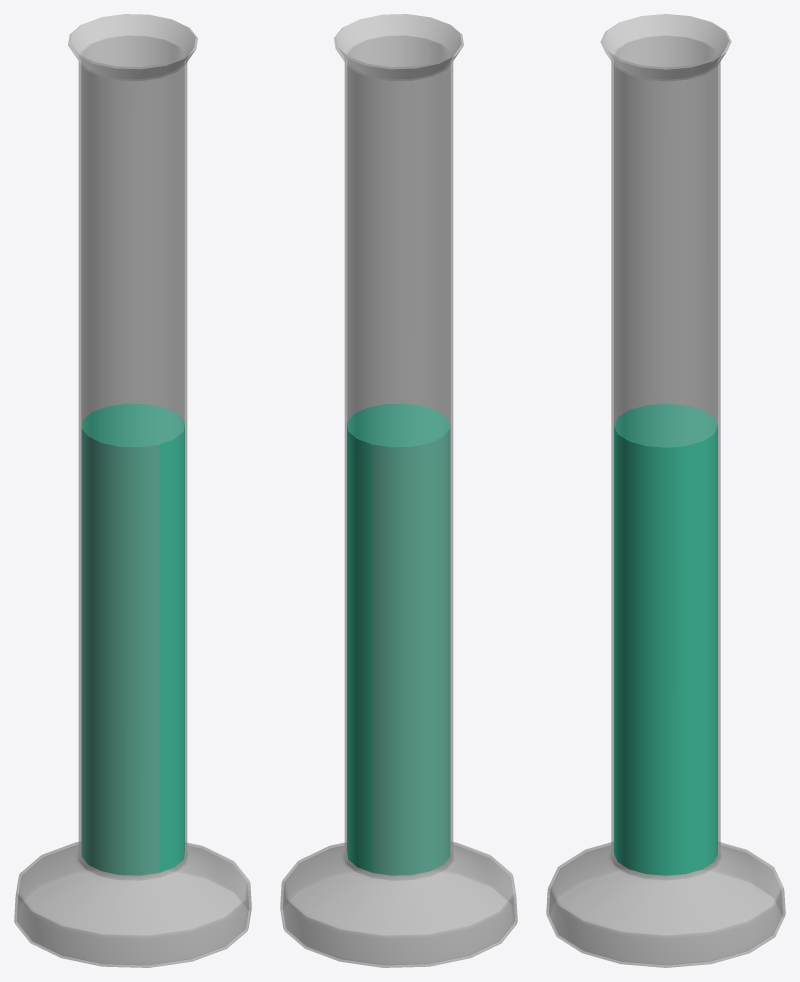
Rendered from Potion_003.fbx.
3 renders of one model, left to right at view 1: azimuth 30°, elevation 25°; view 2: azimuth 150°, elevation 25°; view 3: azimuth 270°, elevation 25°, orthographic.
Parts seen in each view (by area): view 1: pCylinder214, pCylinder213; view 2: pCylinder214, pCylinder213; view 3: pCylinder214, pCylinder213.
Part boxes in pixels (<box>): pCylinder214: <box>14,14,251,967</box>; pCylinder213: <box>82,404,184,875</box>; pCylinder214: <box>280,14,517,967</box>; pCylinder213: <box>347,404,449,875</box>; pCylinder214: <box>546,14,785,967</box>; pCylinder213: <box>614,404,717,875</box>.
Size of the model in its own units: 0.2184 by 0.8837 by 0.2184.
